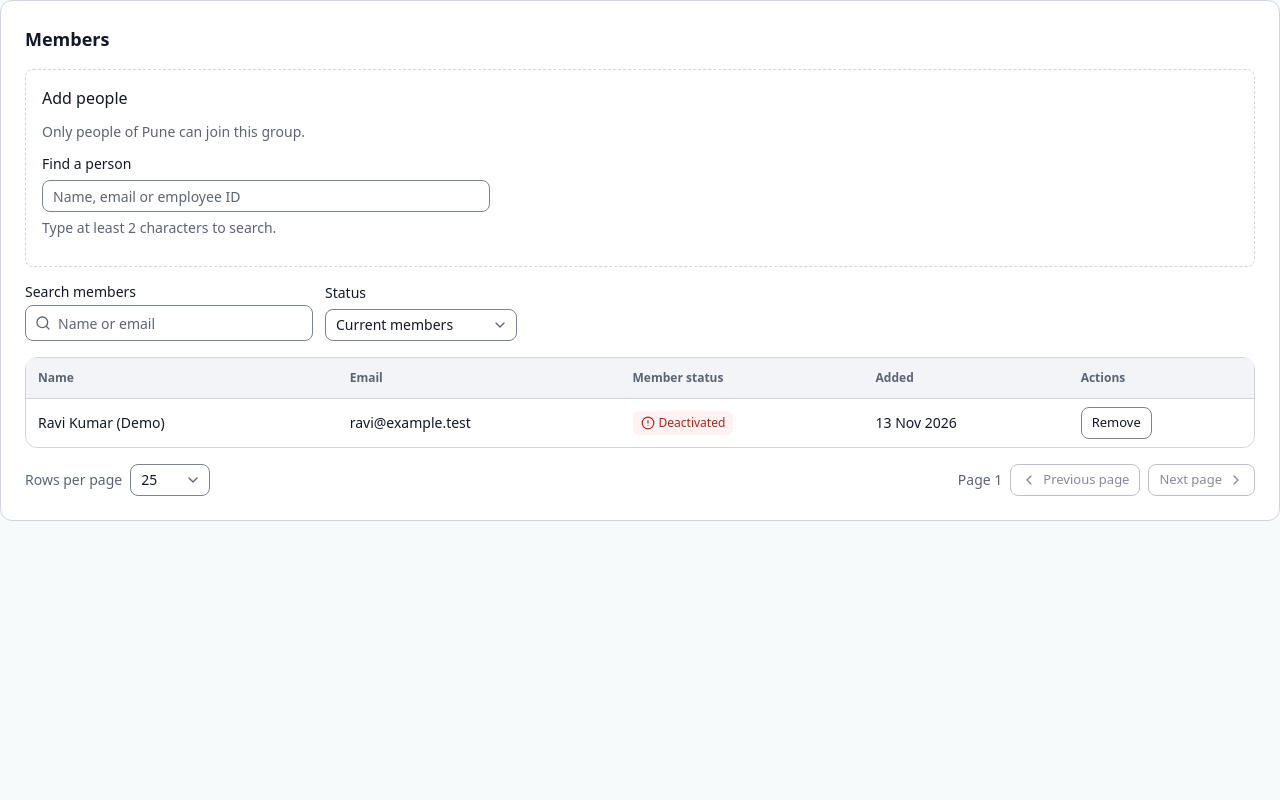
Scenario: GroupMembers › a manager finds people of the group branch only, and adds one by membership id
Expected: the text "Only people of Pune can join this group." is shown, [42,122,305,141]
Expected: the button named "Remove Ravi Kumar (Demo)" is shown, [1081,406,1152,438]
Type "asha" into the search field labelled "Find a person" at (266, 196), box [42,180,490,212]
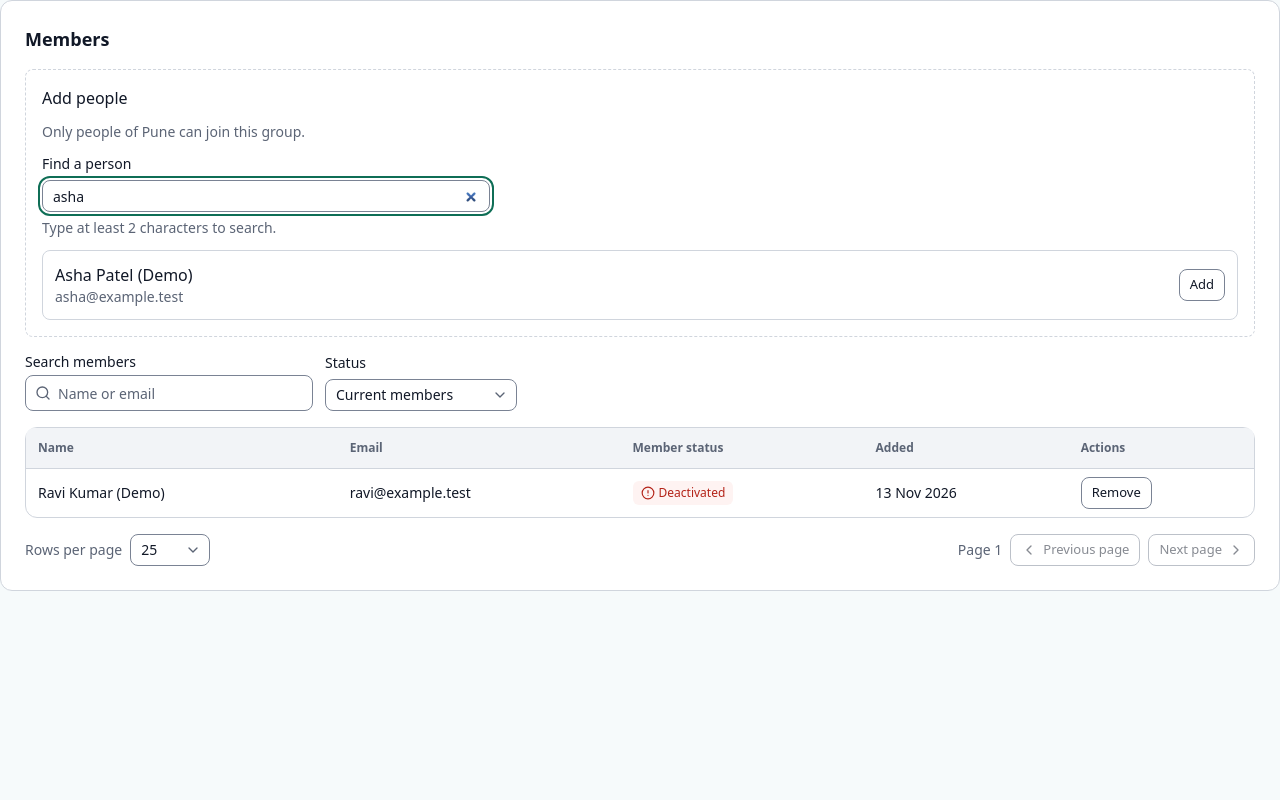
Click the button named "Add Asha Patel (Demo)" at (1202, 285), box [1179,269,1225,301]
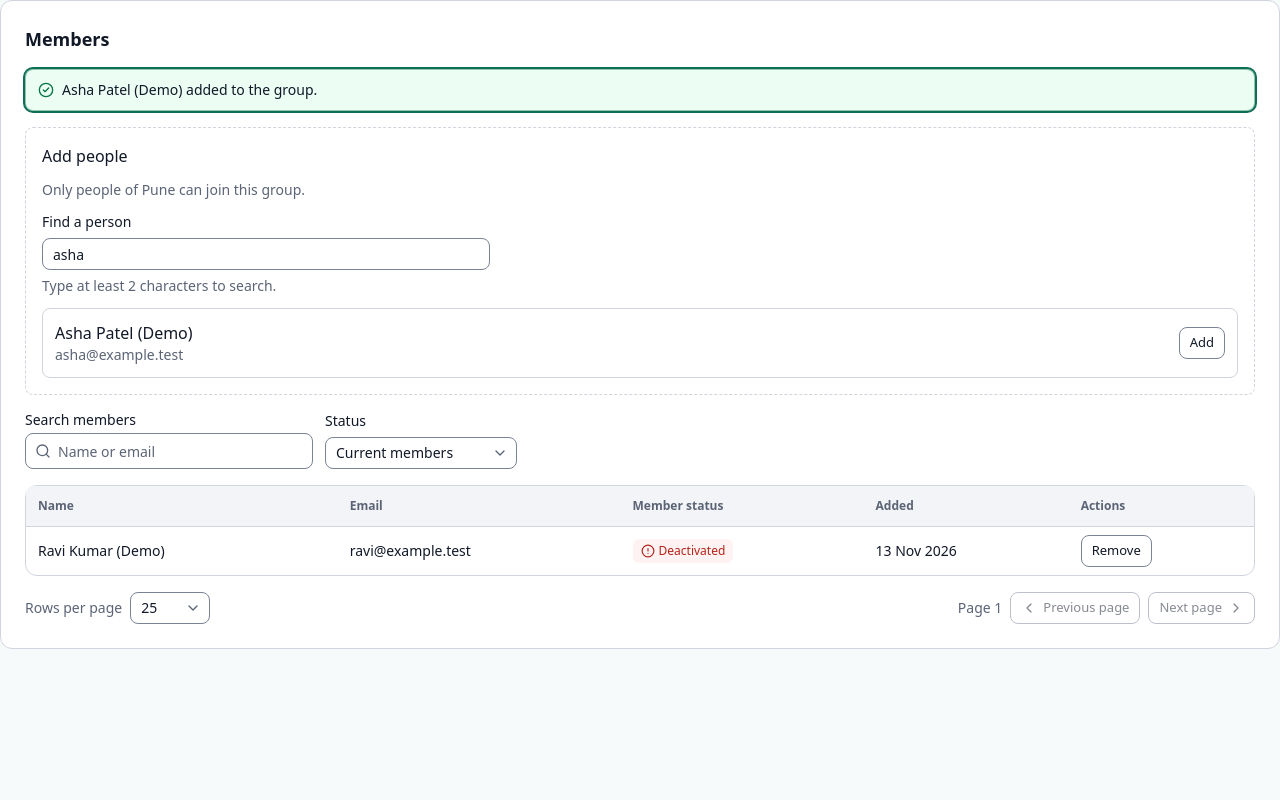
Result: the text "Asha Patel (Demo) added to the group." is shown at [62,80,317,100]
